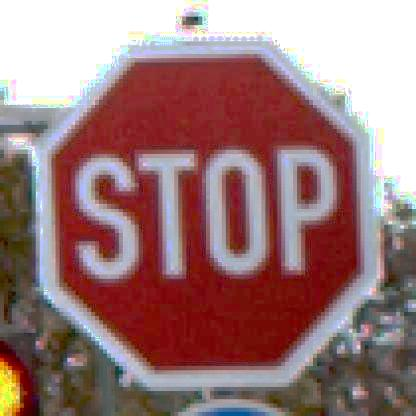Stop Sign: (32, 21, 376, 391)
